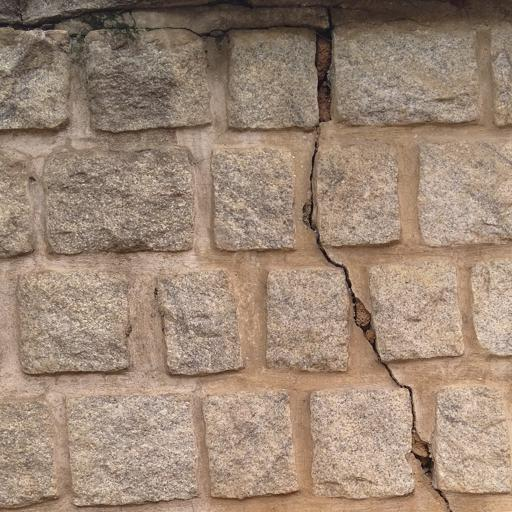major_crack: (291, 0, 471, 512), (0, 0, 407, 46)
